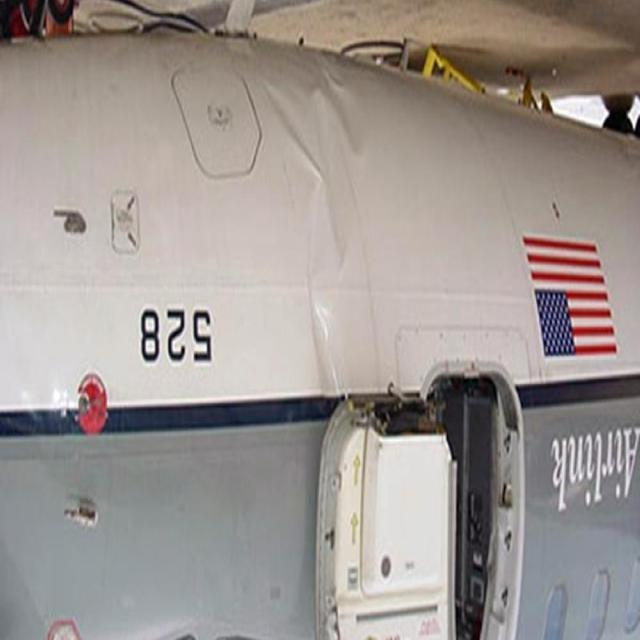dent: (259, 43, 369, 394)
